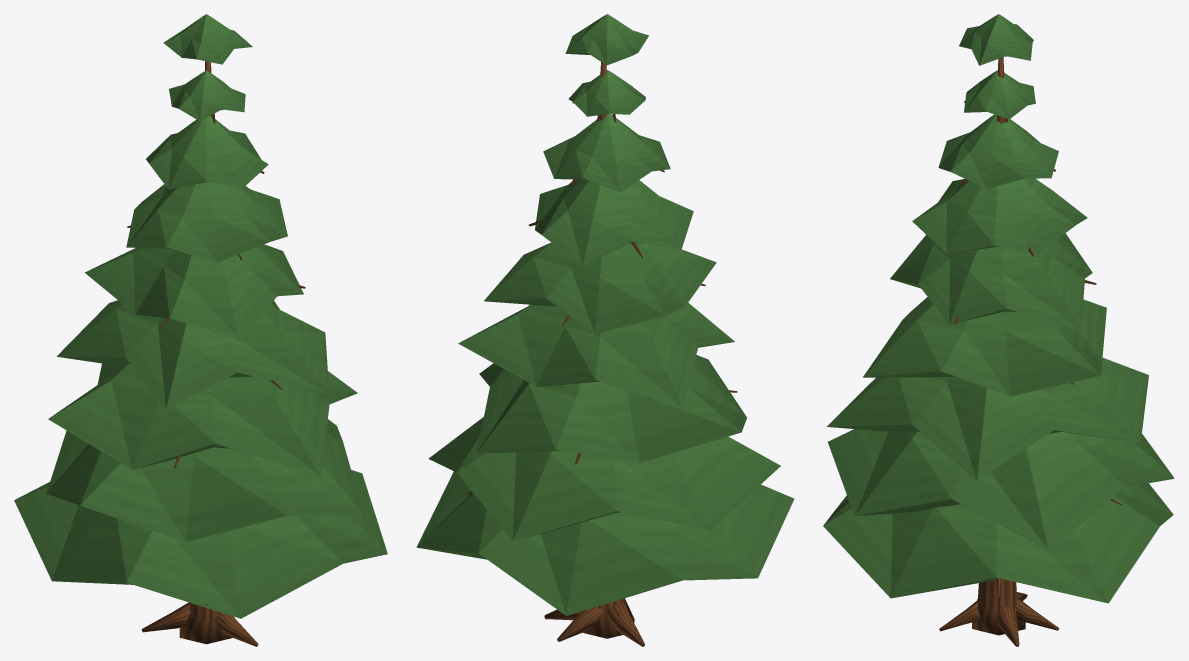
Rendered from FacetedFir_LOD1.glb.
3 views of the same model, side by side, from view 1: azimuth 30°, elevation 25°; view 2: azimuth 150°, elevation 25°; view 3: azimuth 270°, elevation 25° (orthographic).
Visible parts, largest first — view 1: SM_FacetedFir_Foliage_LOD1, SM_FacetedFir_Bark_LOD1; view 2: SM_FacetedFir_Foliage_LOD1, SM_FacetedFir_Bark_LOD1; view 3: SM_FacetedFir_Foliage_LOD1, SM_FacetedFir_Bark_LOD1.
Part boxes in pixels (<box>): SM_FacetedFir_Foliage_LOD1: <box>14,14,387,618</box>; SM_FacetedFir_Bark_LOD1: <box>90,61,305,646</box>; SM_FacetedFir_Foliage_LOD1: <box>416,14,794,615</box>; SM_FacetedFir_Bark_LOD1: <box>466,62,737,646</box>; SM_FacetedFir_Foliage_LOD1: <box>823,14,1174,603</box>; SM_FacetedFir_Bark_LOD1: <box>939,17,1121,646</box>.
Bounding box in the file's own units: 4.42 × 8.44 × 4.42.
Materials: 2 (2 with a texture image).
